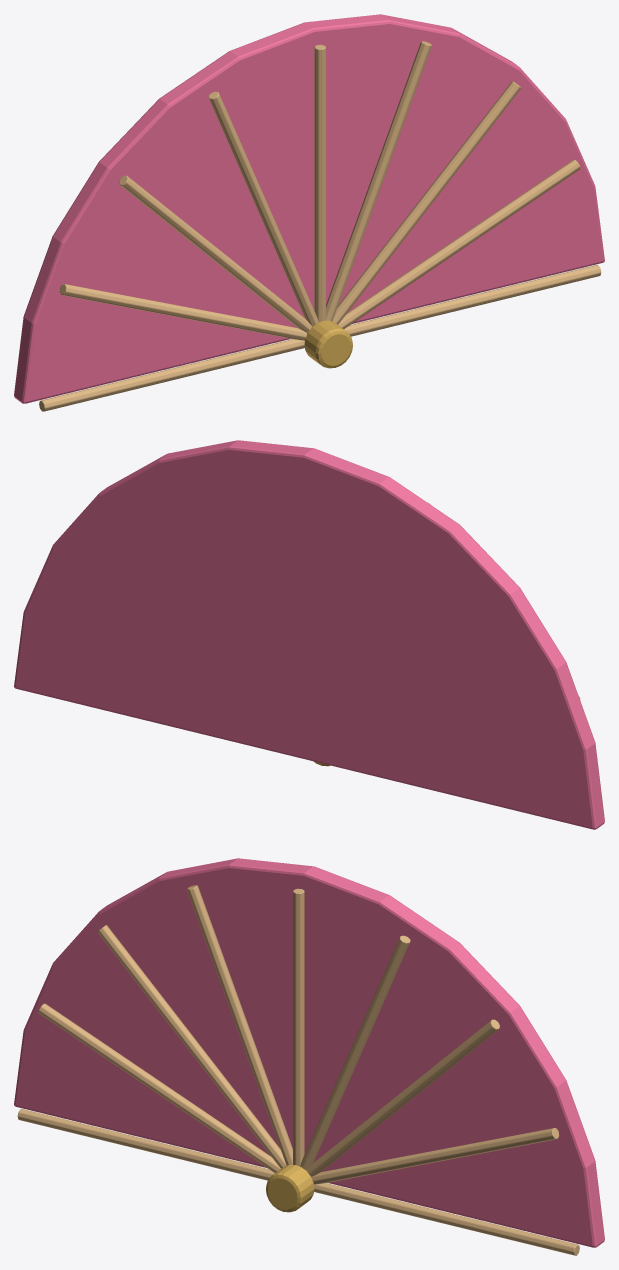
Rendered from P006_folding_fan.glb.
The picture shows the model from 3 angles, top to bottom: view 1: azimuth 30°, elevation 25°; view 2: azimuth 150°, elevation 25°; view 3: azimuth 330°, elevation 25°; orthographic projection.
Visible parts, largest first — view 1: P006_fan_paper_001, P006_rib_004, P006_rib_005, P006_rib_003, P006_rib_010, P006_rib_006, P006_rib_002, P006_rib_007, P006_rib_009, P006_rib_008, P006_pin_011; view 2: P006_fan_paper_001; view 3: P006_fan_paper_001, P006_rib_008, P006_rib_007, P006_rib_009, P006_rib_002, P006_rib_006, P006_rib_010, P006_rib_005, P006_rib_003, P006_rib_004, P006_pin_011.
Boxes of the visible parts, x1,y1,x2,y2 form: P006_fan_paper_001: [14, 14, 604, 403]; P006_rib_004: [332, 81, 521, 324]; P006_rib_005: [326, 41, 431, 321]; P006_rib_003: [338, 159, 580, 328]; P006_rib_010: [39, 339, 304, 411]; P006_rib_006: [314, 44, 325, 322]; P006_rib_002: [344, 265, 601, 336]; P006_rib_007: [208, 91, 318, 326]; P006_rib_009: [59, 284, 307, 340]; P006_rib_008: [119, 175, 312, 332]; P006_pin_011: [304, 320, 352, 368]; P006_fan_paper_001: [14, 440, 604, 829]; P006_fan_paper_001: [14, 858, 604, 1247]; P006_rib_008: [97, 925, 286, 1168]; P006_rib_007: [187, 885, 292, 1165]; P006_rib_009: [38, 1003, 280, 1172]; P006_rib_002: [314, 1183, 579, 1255]; P006_rib_006: [293, 888, 304, 1166]; P006_rib_010: [17, 1109, 274, 1180]; P006_rib_005: [300, 935, 410, 1170]; P006_rib_003: [311, 1128, 559, 1184]; P006_rib_004: [306, 1019, 499, 1176]; P006_pin_011: [266, 1164, 314, 1212].
Size of the model in its own units: 0.4395 by 0.234 by 0.042.
